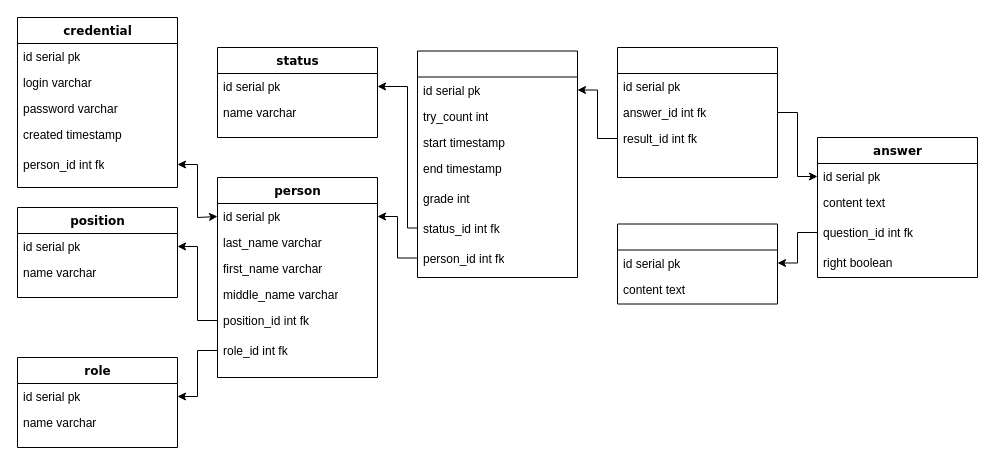
This 995x465 diagram has some shape labels left out. Here are the shapes that lost their labels. From the top down, the box of each, then its label:
(616, 46, 778, 178): details
(416, 50, 578, 278): result
(616, 223, 778, 304): question
